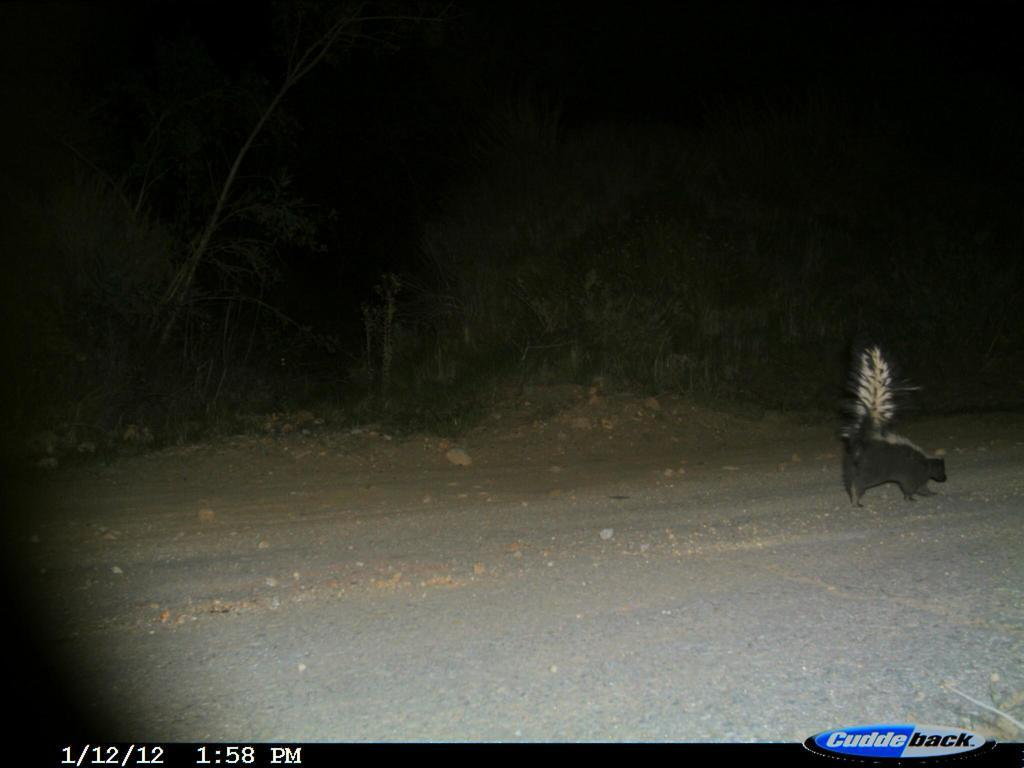skunk: (831, 336, 963, 538)
